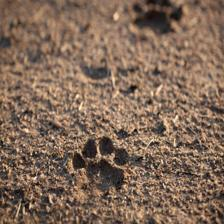coyote: (68, 131, 131, 192)
